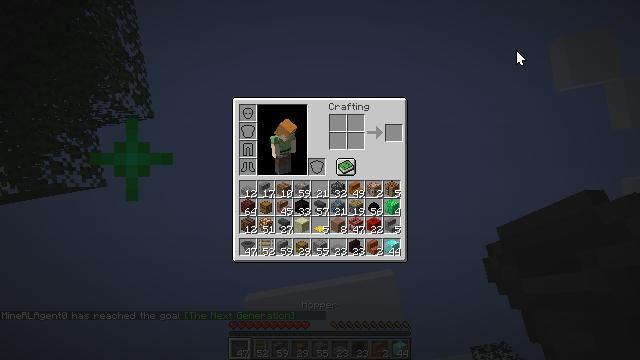cursor: (516, 50, 526, 66)
